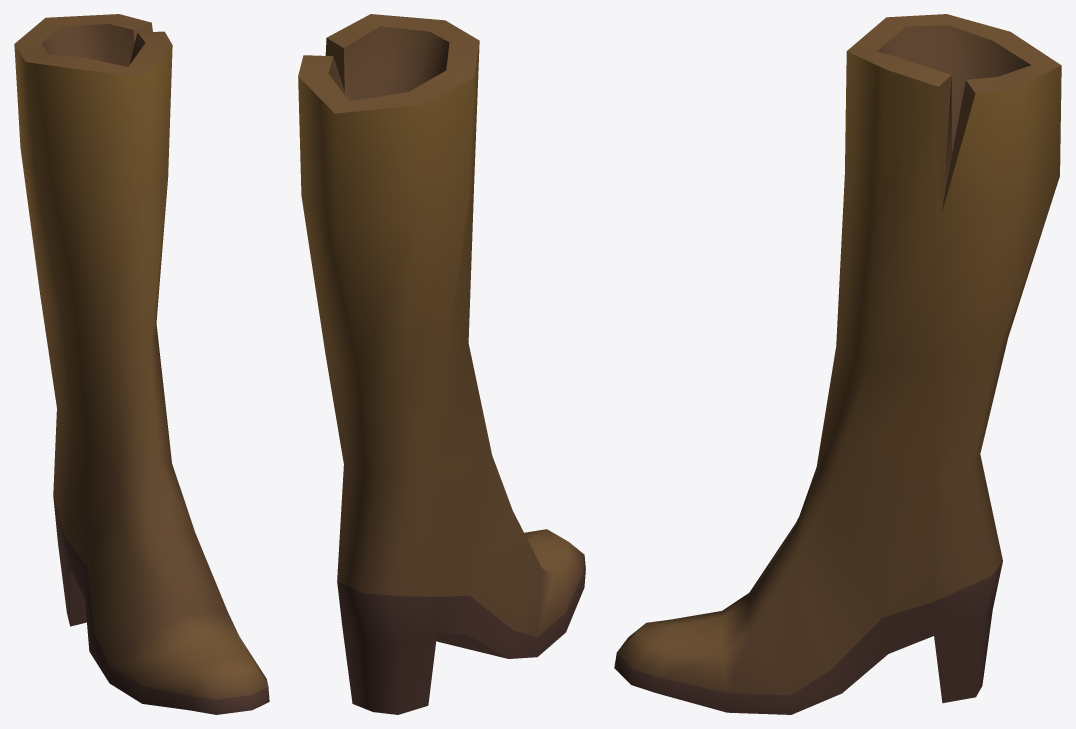
3 renders of one model, left to right at view 1: azimuth 30°, elevation 25°; view 2: azimuth 150°, elevation 25°; view 3: azimuth 270°, elevation 25°, orthographic. The views are drawn at different scales.
Parts seen in each view (by area): view 1: Boot; view 2: Boot; view 3: Boot.
Part boxes in pixels (left/top/right/bottom): Boot: left=14, top=14, right=269, bottom=714; Boot: left=298, top=14, right=585, bottom=714; Boot: left=614, top=14, right=1061, bottom=714.
Bounding box in the file's own units: 0.1252 × 0.5 × 0.3162.
